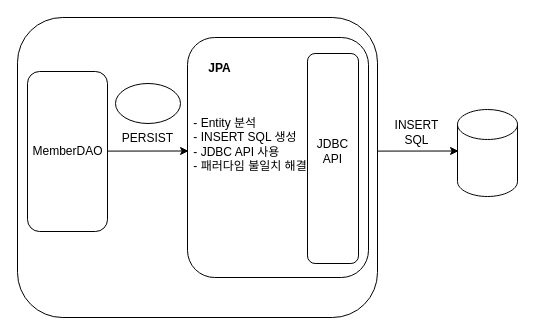
This 540x335 diagram has some shape labels left out. Each missing label, with the box of its shape:
DB: (456, 108, 518, 196)
Entity Object: (114, 82, 180, 124)
